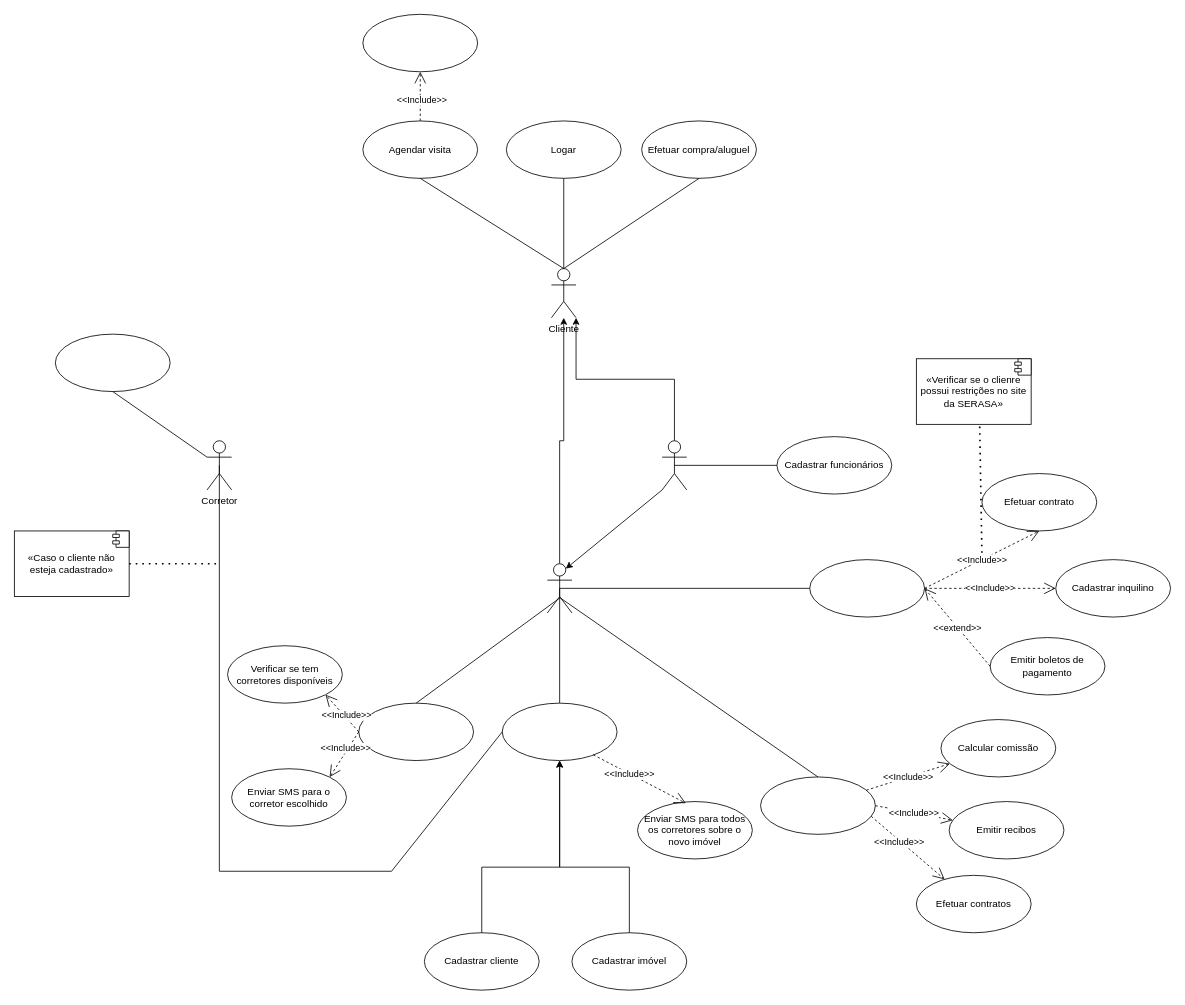
Image size: 1185x1005. Some labels were removed from this diagram. Each missing label, with the centre of its shape:
"Administrador do sistema" goes at (x=674, y=465).
"Agendar visitas dos corretores" goes at (x=416, y=731).
"Alugar imóvel" goes at (x=867, y=588).
"Atendente" goes at (x=559, y=588).
"Efetuar vendas" goes at (x=817, y=805).
"Enviar SMS para o corretor" goes at (x=420, y=43).
"Realizar cadastros" goes at (x=559, y=731).
"Verificar SMSs" goes at (x=112, y=362).
